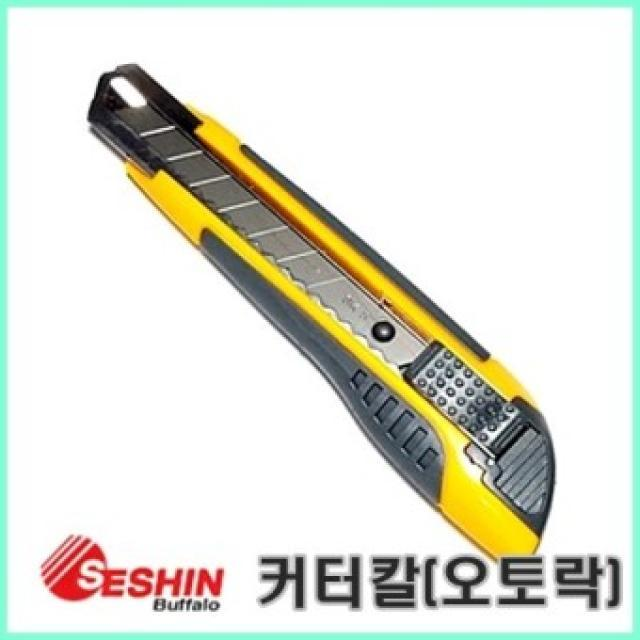cutter: (84, 41, 564, 572)
